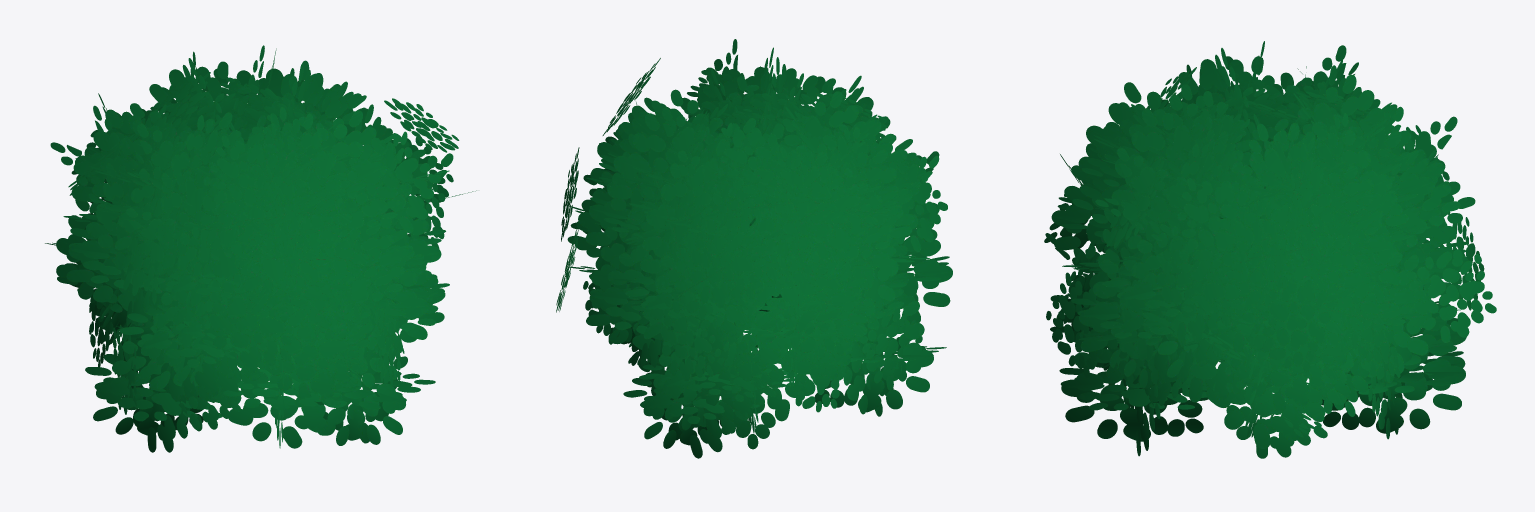
The model's file is bush.glb.
3 renders of one model, left to right at view 1: azimuth 30°, elevation 25°; view 2: azimuth 150°, elevation 25°; view 3: azimuth 270°, elevation 25°, orthographic. The views are drawn at different scales.
Parts seen in each view (by area): view 1: Bush_Common; view 2: Bush_Common; view 3: Bush_Common.
Boxes of the visible parts, <box> form: Bush_Common: <box>45,45,476,452</box>; Bush_Common: <box>556,39,952,458</box>; Bush_Common: <box>1044,41,1496,458</box>.
Size of the model in its own units: 1.69 by 1.57 by 1.7.
1 material, 1 textured.
